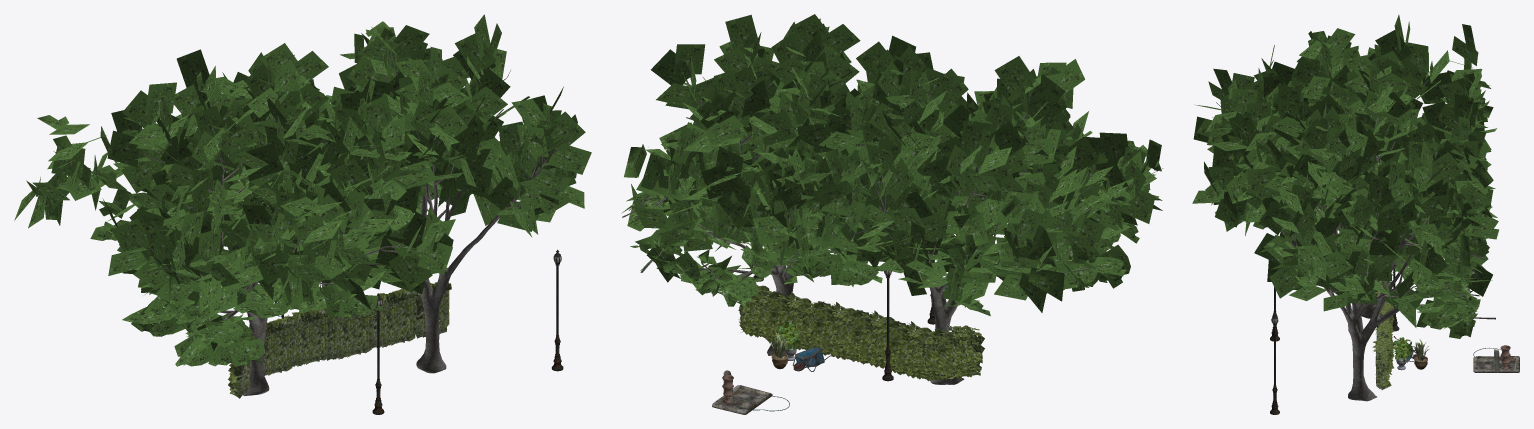
The model's file is sm301_01_301room_01.fbx.
3 renders of one model, left to right at view 1: azimuth 30°, elevation 25°; view 2: azimuth 150°, elevation 25°; view 3: azimuth 270°, elevation 25°, orthographic. The views are drawn at different scales.
Parts seen in each view (by area): view 1: 0019_sm10006LargeTree01A00ms_1_Group_2_Sub_1__sm10_006__922, 0042_sm10014BoxWood01A00ms_1_Group_0_Sub_1__sm10_014_Bo_454., 0015_sm10006LargeTree01A00ms_1_Group_0_Sub_1__sm10_006__a7b, 0041_sm35021StreetLightC01A00ms_1_Group_0_Sub_2__sm35_0_061e, 0017_sm10006LargeTree01A00ms_1_Group_1_Sub_1__sm10_006__1da; view 2: 0019_sm10006LargeTree01A00ms_1_Group_2_Sub_1__sm10_006__922, 0042_sm10014BoxWood01A00ms_1_Group_0_Sub_1__sm10_014_Bo_454., 0015_sm10006LargeTree01A00ms_1_Group_0_Sub_1__sm10_006__a7b, 0017_sm10006LargeTree01A00ms_1_Group_1_Sub_1__sm10_006__1da, 0039_sm26006WashSpace01A00ms_1_Group_0_Sub_1__sm26_006__c2e4, 0041_sm35021StreetLightC01A00ms_1_Group_0_Sub_2__sm35_0_061e, 0057_sm30111WheelBarrow01A00ms_1_Group_0_Sub_1__sm30_11_4c40; view 3: 0019_sm10006LargeTree01A00ms_1_Group_2_Sub_1__sm10_006__922, 0015_sm10006LargeTree01A00ms_1_Group_0_Sub_1__sm10_006__a7b, 0042_sm10014BoxWood01A00ms_1_Group_0_Sub_1__sm10_014_Bo_454., 0039_sm26006WashSpace01A00ms_1_Group_0_Sub_1__sm26_006__c2e4, 0017_sm10006LargeTree01A00ms_1_Group_1_Sub_1__sm10_006__1da, 0041_sm35021StreetLightC01A00ms_1_Group_0_Sub_2__sm35_0_061e, 0050_sm10022Plant03A00ms_1_Group_0_Sub_1__sm10_022_Plan_306a, 0054_sm10007outdoorPlant01A00ms_1_Group_0_Sub_1__sm10_0_c8f9.
Part boxes in pixels (left/top/right/bottom): 0019_sm10006LargeTree01A00ms_1_Group_2_Sub_1__sm10_006__922: left=14, top=14, right=591, bottom=366; 0042_sm10014BoxWood01A00ms_1_Group_0_Sub_1__sm10_014_Bo_454.: left=228, top=282, right=451, bottom=398; 0015_sm10006LargeTree01A00ms_1_Group_0_Sub_1__sm10_006__a7b: left=53, top=69, right=558, bottom=395; 0041_sm35021StreetLightC01A00ms_1_Group_0_Sub_2__sm35_0_061e: left=281, top=249, right=563, bottom=414; 0017_sm10006LargeTree01A00ms_1_Group_1_Sub_1__sm10_006__1da: left=142, top=54, right=547, bottom=348; 0019_sm10006LargeTree01A00ms_1_Group_2_Sub_1__sm10_006__922: left=621, top=14, right=1162, bottom=316; 0042_sm10014BoxWood01A00ms_1_Group_0_Sub_1__sm10_014_Bo_454.: left=738, top=284, right=984, bottom=381; 0015_sm10006LargeTree01A00ms_1_Group_0_Sub_1__sm10_006__a7b: left=629, top=96, right=1070, bottom=384; 0017_sm10006LargeTree01A00ms_1_Group_1_Sub_1__sm10_006__1da: left=622, top=52, right=1163, bottom=282; 0039_sm26006WashSpace01A00ms_1_Group_0_Sub_1__sm26_006__c2e4: left=712, top=370, right=789, bottom=414; 0041_sm35021StreetLightC01A00ms_1_Group_0_Sub_2__sm35_0_061e: left=753, top=270, right=935, bottom=381; 0057_sm30111WheelBarrow01A00ms_1_Group_0_Sub_1__sm30_11_4c40: left=792, top=344, right=833, bottom=371; 0019_sm10006LargeTree01A00ms_1_Group_2_Sub_1__sm10_006__922: left=1192, top=15, right=1498, bottom=338; 0015_sm10006LargeTree01A00ms_1_Group_0_Sub_1__sm10_006__a7b: left=1216, top=58, right=1472, bottom=401; 0042_sm10014BoxWood01A00ms_1_Group_0_Sub_1__sm10_014_Bo_454.: left=1372, top=274, right=1394, bottom=389; 0039_sm26006WashSpace01A00ms_1_Group_0_Sub_1__sm26_006__c2e4: left=1473, top=347, right=1519, bottom=372; 0017_sm10006LargeTree01A00ms_1_Group_1_Sub_1__sm10_006__1da: left=1221, top=59, right=1495, bottom=319; 0041_sm35021StreetLightC01A00ms_1_Group_0_Sub_2__sm35_0_061e: left=1270, top=268, right=1399, bottom=414; 0050_sm10022Plant03A00ms_1_Group_0_Sub_1__sm10_022_Plan_306a: left=1392, top=337, right=1412, bottom=362; 0054_sm10007outdoorPlant01A00ms_1_Group_0_Sub_1__sm10_0_c8f9: left=1414, top=339, right=1429, bottom=369.
Size of the model in its own units: 18.08 by 13.24 by 13.29.
